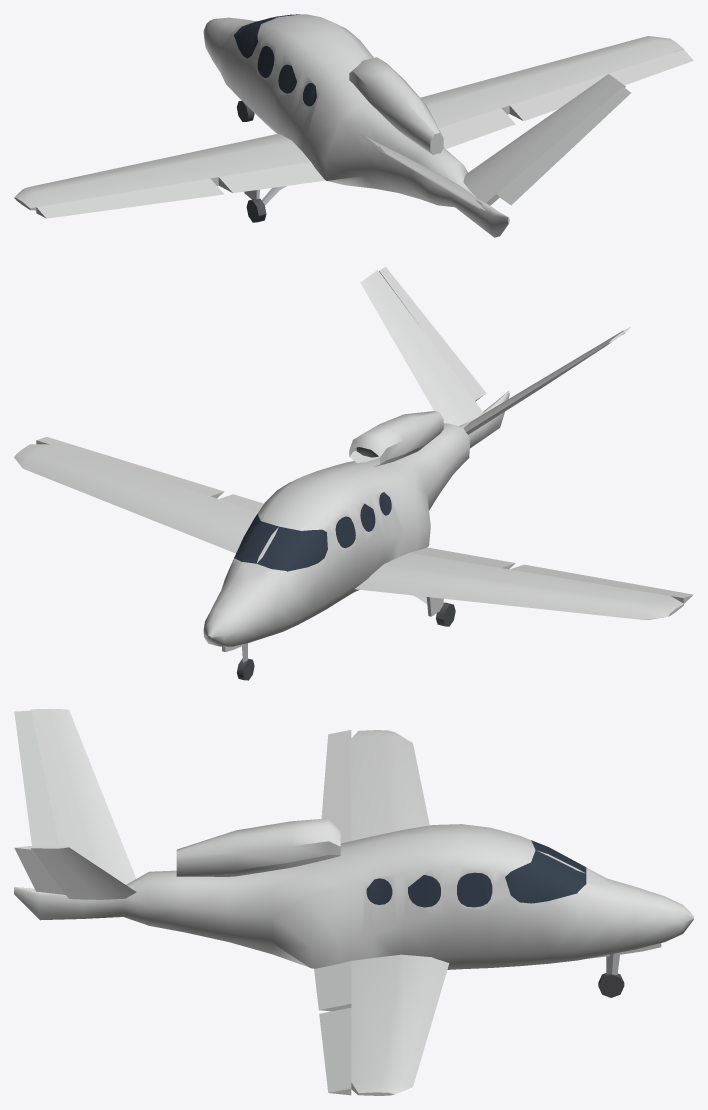
File: Cirrus_Vision_Jet_LOD0.glb
The picture shows the model from 3 angles, top to bottom: view 1: azimuth 30°, elevation 25°; view 2: azimuth 150°, elevation 25°; view 3: azimuth 270°, elevation 25°; orthographic projection. The views are drawn at different scales.
Parts seen in each view (by area): view 1: Fuselage, Wing_Left, Wing_Right, VTail_Right, Nacelle, Aileron_Left, Aileron_Right, Ruddervator_Right, Flap_Left, Flap_Right, Ruddervator_Left, VTail_Left (+1 smaller); view 2: Fuselage, Wing_Left, Wing_Right, VTail_Right, Nacelle, Ruddervator_Right, Aileron_Right, VTail_Left, Aileron_Left, Flap_Left; view 3: Fuselage, Wing_Right, VTail_Left, Wing_Left, Nacelle, Ruddervator_Left, VTail_Right, Aileron_Left, Aileron_Right, Flap_Right, Ruddervator_Right.
Part boxes in pixels (x1=…): Fuselage: x1=203, y1=14, x2=509, y2=237; Wing_Left: x1=14, y1=133, x2=310, y2=210; Wing_Right: x1=420, y1=36, x2=683, y2=128; VTail_Right: x1=463, y1=74, x2=625, y2=205; Nacelle: x1=349, y1=57, x2=443, y2=154; Aileron_Left: x1=36, y1=178, x2=223, y2=218; Aileron_Right: x1=509, y1=49, x2=693, y2=121; Ruddervator_Right: x1=497, y1=86, x2=630, y2=205; Flap_Left: x1=218, y1=162, x2=325, y2=193; Flap_Right: x1=438, y1=108, x2=515, y2=148; Ruddervator_Left: x1=377, y1=146, x2=485, y2=210; VTail_Left: x1=361, y1=135, x2=482, y2=208; Fuselage: x1=203, y1=390, x2=509, y2=646; Wing_Left: x1=354, y1=553, x2=683, y2=619; Wing_Right: x1=14, y1=444, x2=258, y2=553; VTail_Right: x1=360, y1=270, x2=482, y2=425; Nacelle: x1=349, y1=411, x2=443, y2=466; Ruddervator_Right: x1=379, y1=266, x2=486, y2=401; Aileron_Right: x1=36, y1=436, x2=224, y2=498; VTail_Left: x1=463, y1=330, x2=625, y2=434; Aileron_Left: x1=510, y1=564, x2=693, y2=603; Flap_Left: x1=409, y1=547, x2=515, y2=569; Fuselage: x1=14, y1=824, x2=693, y2=969; Wing_Right: x1=351, y1=954, x2=449, y2=1095; VTail_Left: x1=30, y1=709, x2=136, y2=884; Wing_Left: x1=351, y1=730, x2=429, y2=840; Nacelle: x1=176, y1=818, x2=340, y2=876; Ruddervator_Left: x1=14, y1=710, x2=59, y2=846; VTail_Right: x1=30, y1=846, x2=136, y2=899; Aileron_Left: x1=321, y1=730, x2=351, y2=843; Aileron_Right: x1=319, y1=1007, x2=351, y2=1095; Flap_Right: x1=314, y1=961, x2=351, y2=1011; Ruddervator_Right: x1=14, y1=846, x2=65, y2=894.
Bounding box in the file's own units: 11.8 × 3.32 × 9.36.
